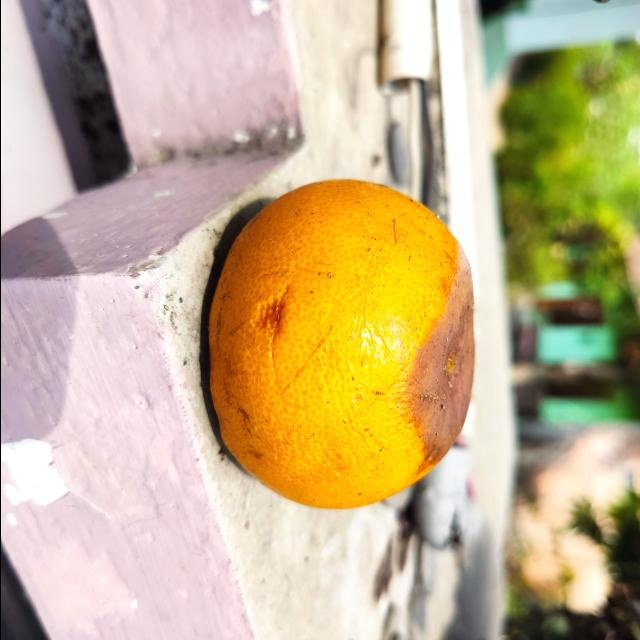agrume: (206, 177, 474, 511)
